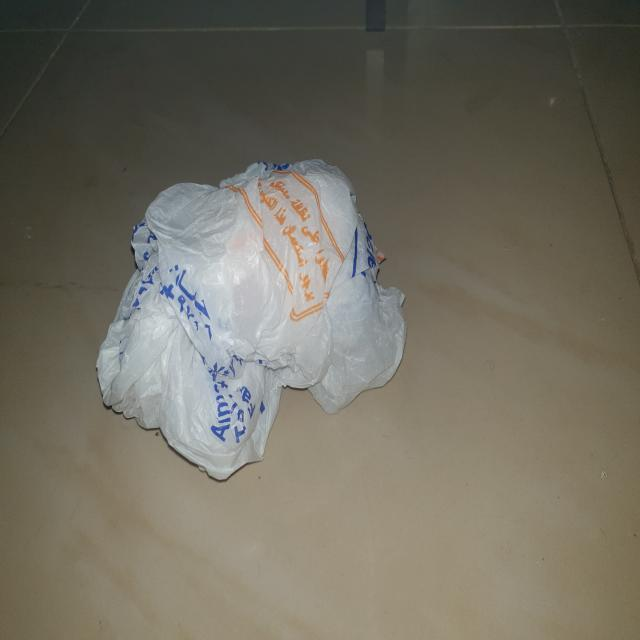Plastic_Bag: (80, 148, 416, 492)
